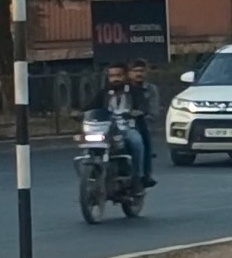BikeWithRider: (65, 53, 165, 226)
NoHelmet: (100, 59, 130, 90), (124, 56, 151, 87)
